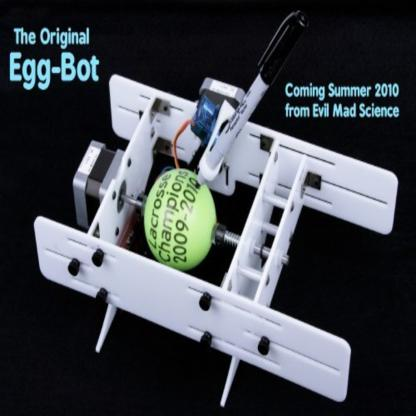Ball: (145, 165, 219, 268)
